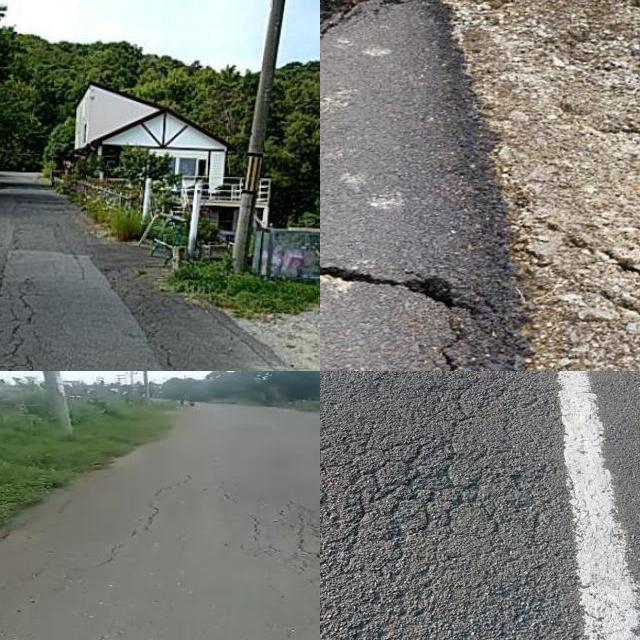Pinggir: (320, 0, 539, 318)
Retak Buaya: (320, 433, 537, 553), (254, 507, 320, 587)
